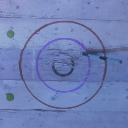Axe Tip: (84, 52, 97, 55)
